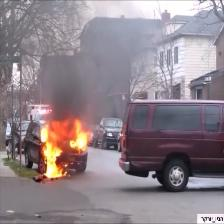fire: (44, 125, 64, 180), (67, 122, 85, 152)
smoke: (48, 51, 112, 111), (98, 20, 134, 49)
